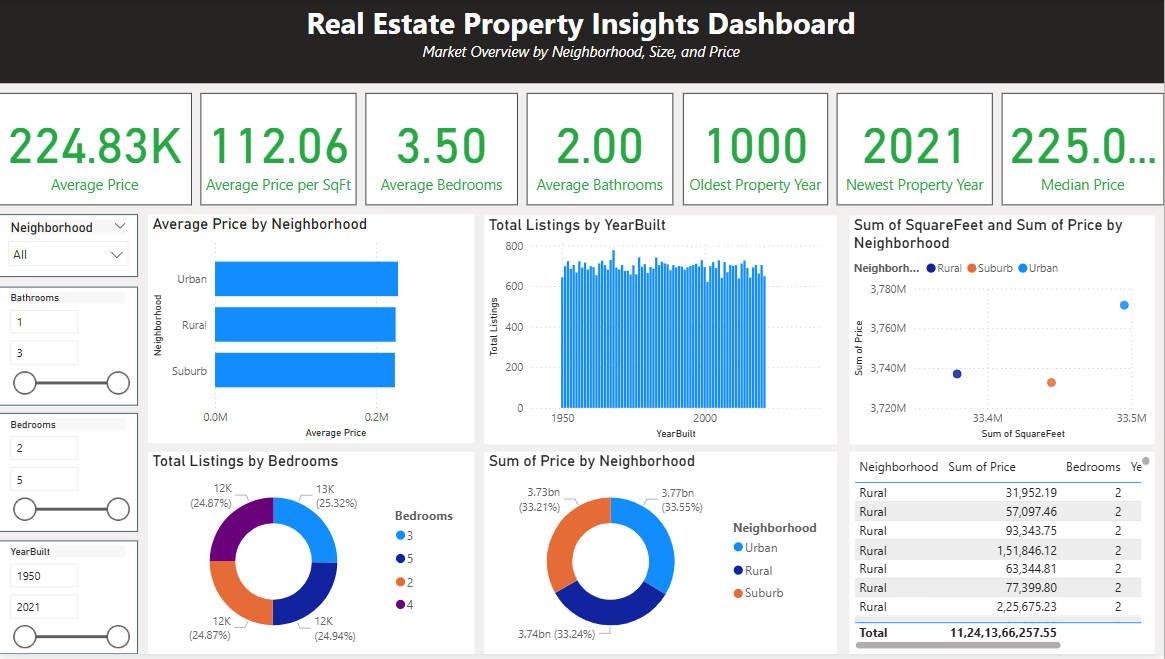

Layout of this report page (visuals, bound fields, positions):
{"tool":"powerbi","page":{"name":"Page 1","canvas":[1280,720],"ordinal":0},"visuals":[{"type":"textbox","box":[0,0,1280.3,93.3],"z":0},{"type":"card","fields":{"Values":["housing_price_dataset.Average Price"]},"box":[0,104.3,212.7,123.5],"z":1000},{"type":"card","fields":{"Values":["housing_price_dataset.Average Price per SqFt"]},"box":[222.3,104.3,171.5,123.5],"z":2000},{"type":"card","fields":{"Values":["housing_price_dataset.Average Bedrooms"]},"box":[403.4,104.3,167.4,123.5],"z":3000},{"type":"card","fields":{"Values":["housing_price_dataset.Average Bathrooms"]},"box":[580.4,104.3,160.5,123.5],"z":4000},{"type":"card","fields":{"Values":["housing_price_dataset.Oldest Property Year"]},"box":[752,104.3,159.2,123.5],"z":5000},{"type":"card","fields":{"Values":["housing_price_dataset.Newest Property Year"]},"box":[920.8,104.3,171.5,123.5],"z":6000},{"type":"card","fields":{"Values":["housing_price_dataset.Median Price"]},"box":[1101.9,104.3,178.4,123.5],"z":7000},{"type":"slicer","fields":{"Values":["housing_price_dataset.Neighborhood"]},"box":[0,237.4,153.7,68.6],"z":8000},{"type":"slicer","box":[0,317,153.7,130.4],"z":9000},{"type":"slicer","fields":{"Values":["housing_price_dataset.Bedrooms"]},"box":[0,455.6,153.7,130.4],"z":10000},{"type":"slicer","fields":{"Values":["housing_price_dataset.YearBuilt"]},"box":[0,595.5,153.7,124.9],"z":11000},{"type":"barChart","fields":{"Y":["housing_price_dataset.Average Price"],"Category":["housing_price_dataset.Neighborhood"]},"box":[164.7,237.4,358.1,251.1],"z":12000},{"type":"columnChart","fields":{"Category":["housing_price_dataset.YearBuilt"],"Y":["housing_price_dataset.Total Listings"]},"box":[533.8,238.8,387,251.1],"z":13000},{"type":"scatterChart","fields":{"X":["Sum(housing_price_dataset.SquareFeet)"],"Y":["Sum(housing_price_dataset.Price)"],"Series":["housing_price_dataset.Neighborhood"]},"box":[934.5,238.8,334.8,251.1],"z":14000},{"type":"donutChart","fields":{"Category":["housing_price_dataset.Bedrooms"],"Y":["housing_price_dataset.Total Listings"]},"box":[165,498,358,222],"z":15000},{"type":"donutChart","fields":{"Category":["housing_price_dataset.Neighborhood"],"Y":["Sum(housing_price_dataset.Price)"]},"box":[534,498,387,222],"z":16000},{"type":"tableEx","fields":{"Values":["housing_price_dataset.Neighborhood","Sum(housing_price_dataset.Price)","housing_price_dataset.Bedrooms","housing_price_dataset.YearBuilt","housing_price_dataset.SquareFeet"]},"box":[934,498,335,222],"z":17000}]}

Visuals, with their boxes in screenshot pixels (x1, y1, x2, y2), scaled from the page's 1280x720 canvas onto the 1165x659 screenshot:
textbox: locate(0, 0, 1164, 85)
card - housing_price_dataset.Average Price: locate(0, 95, 194, 209)
card - housing_price_dataset.Average Price per SqFt: locate(202, 95, 358, 209)
card - housing_price_dataset.Average Bedrooms: locate(367, 95, 520, 209)
card - housing_price_dataset.Average Bathrooms: locate(528, 95, 674, 209)
card - housing_price_dataset.Oldest Property Year: locate(684, 95, 829, 209)
card - housing_price_dataset.Newest Property Year: locate(838, 95, 994, 209)
card - housing_price_dataset.Median Price: locate(1003, 95, 1164, 209)
slicer - housing_price_dataset.Neighborhood: locate(0, 217, 140, 280)
slicer: locate(0, 290, 140, 409)
slicer - housing_price_dataset.Bedrooms: locate(0, 417, 140, 536)
slicer - housing_price_dataset.YearBuilt: locate(0, 545, 140, 658)
barChart - housing_price_dataset.Average Price x housing_price_dataset.Neighborhood: locate(150, 217, 476, 447)
columnChart - housing_price_dataset.YearBuilt x housing_price_dataset.Total Listings: locate(486, 219, 838, 448)
scatterChart - Sum(housing_price_dataset.SquareFeet) x Sum(housing_price_dataset.Price): locate(851, 219, 1155, 448)
donutChart - housing_price_dataset.Bedrooms x housing_price_dataset.Total Listings: locate(150, 456, 476, 658)
donutChart - housing_price_dataset.Neighborhood x Sum(housing_price_dataset.Price): locate(486, 456, 838, 658)
tableEx - housing_price_dataset.Neighborhood x Sum(housing_price_dataset.Price): locate(850, 456, 1155, 658)
